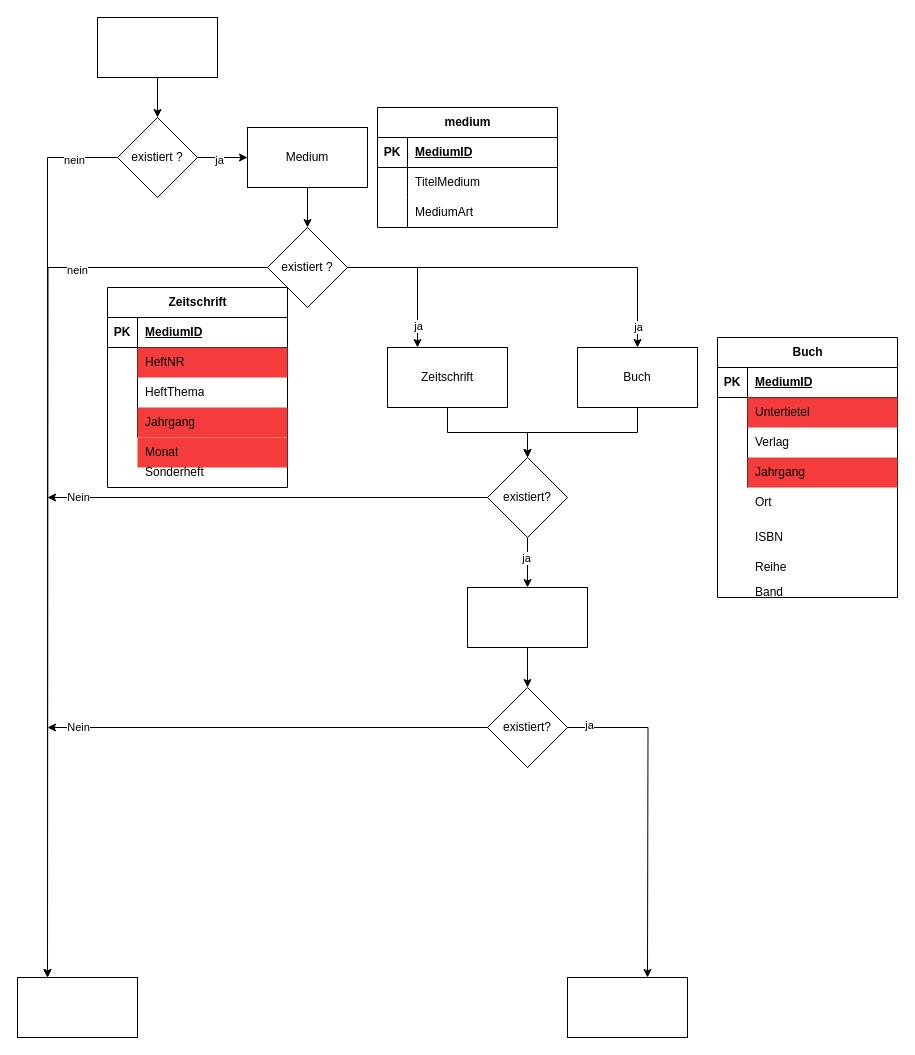
This 915x1055 diagram has some shape labels left out. Each missing label, with the box of its shape:
Anleitung: (466, 586, 588, 648)
Autor: (96, 16, 218, 78)
Fehler "Dieser DS existiert schon": (566, 976, 688, 1038)
neuer DS anlegen: (16, 976, 138, 1038)
